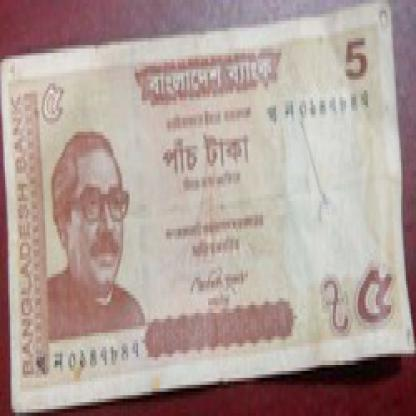Five Taka: (155, 132, 261, 173), (351, 256, 401, 333), (338, 28, 373, 86), (37, 80, 68, 128)
